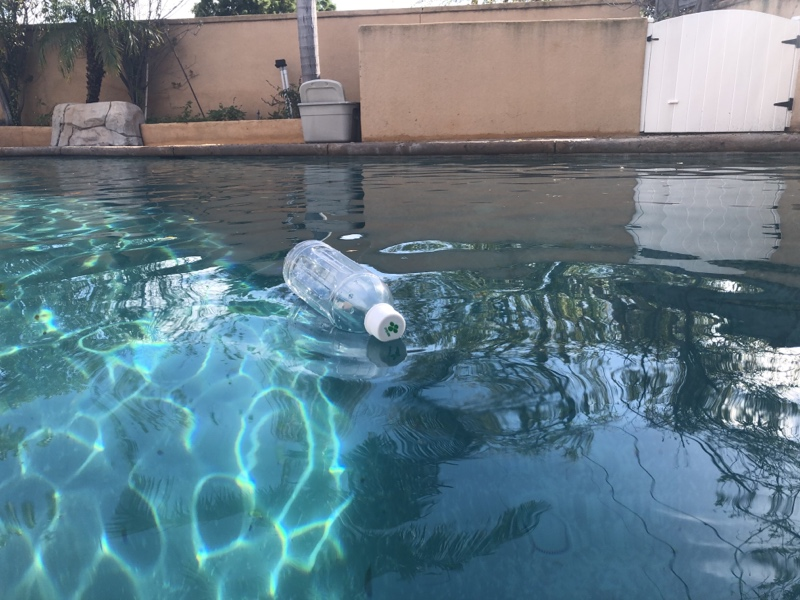Plastic Bottle: (280, 237, 406, 344)
